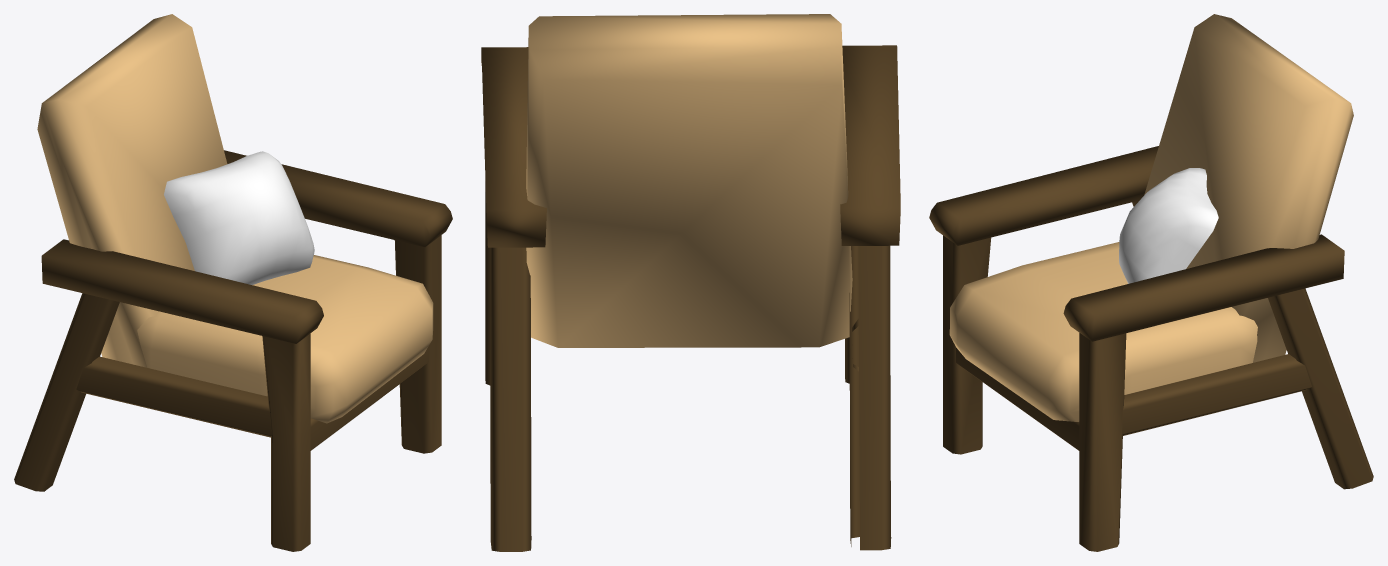
Rendered from chair.glb.
The picture shows the model from 3 angles, left to right: view 1: azimuth 30°, elevation 25°; view 2: azimuth 150°, elevation 25°; view 3: azimuth 270°, elevation 25°; orthographic projection. The views are drawn at different scales.
Visible parts, largest first — view 1: Sofa_Lvl1; view 2: Sofa_Lvl1; view 3: Sofa_Lvl1.
Boxes of the visible parts, x1,y1,x2,y2 form: Sofa_Lvl1: [14, 14, 452, 551]; Sofa_Lvl1: [481, 14, 900, 551]; Sofa_Lvl1: [929, 14, 1373, 551].
Bounding box in the file's own units: 6.21 × 6.1 × 6.43.
